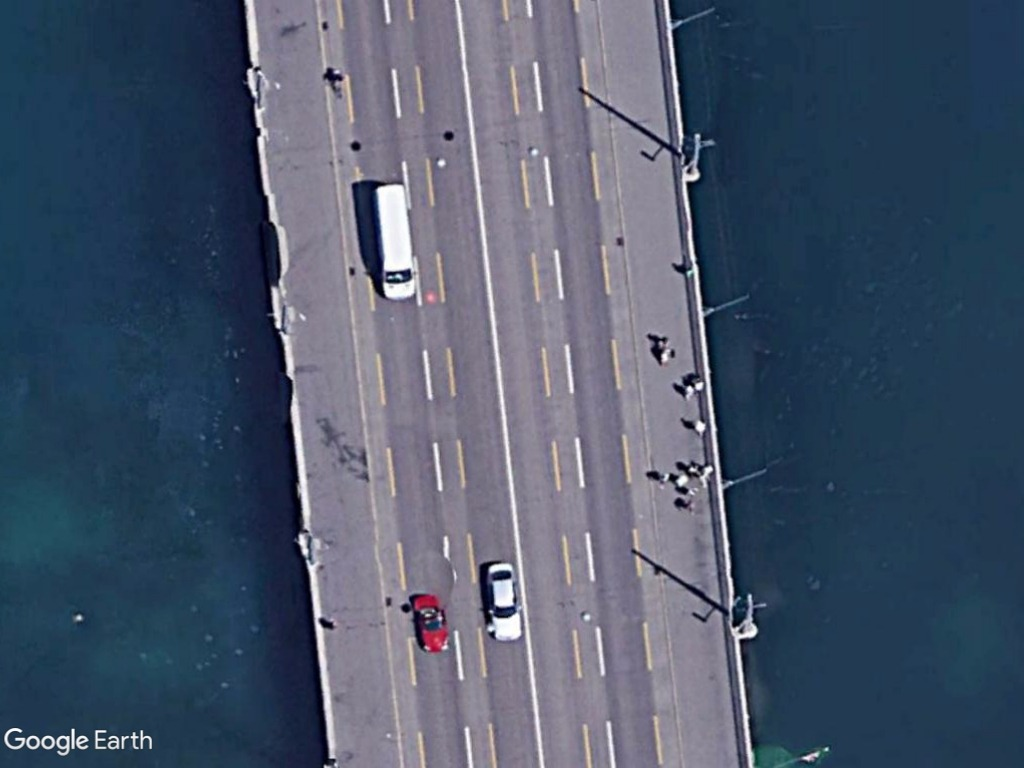car: (484, 559, 526, 643)
van: (372, 180, 420, 305)
